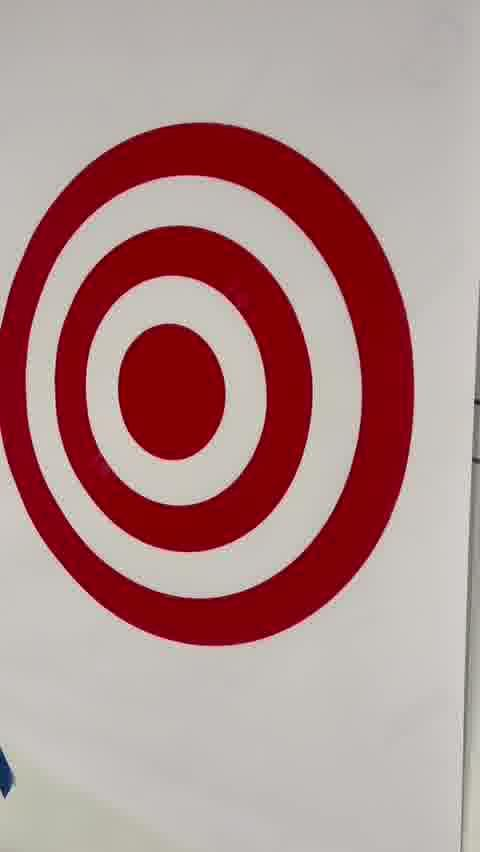target_red: (0, 123, 416, 648)
